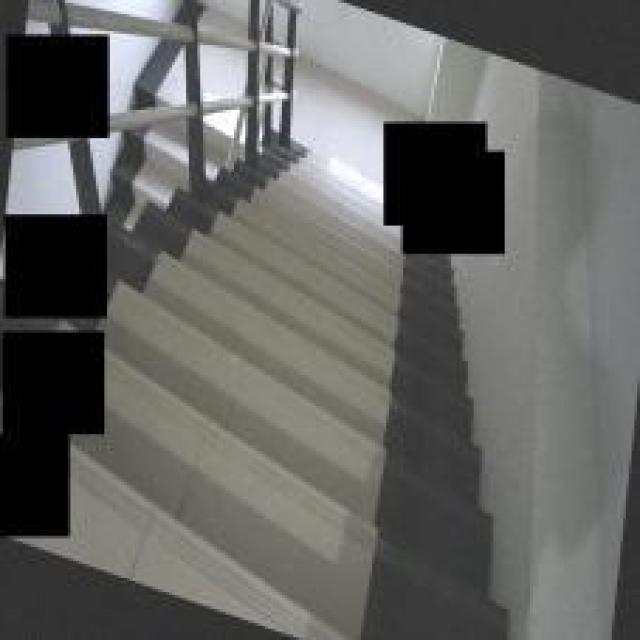downstair: (179, 241, 387, 619)
